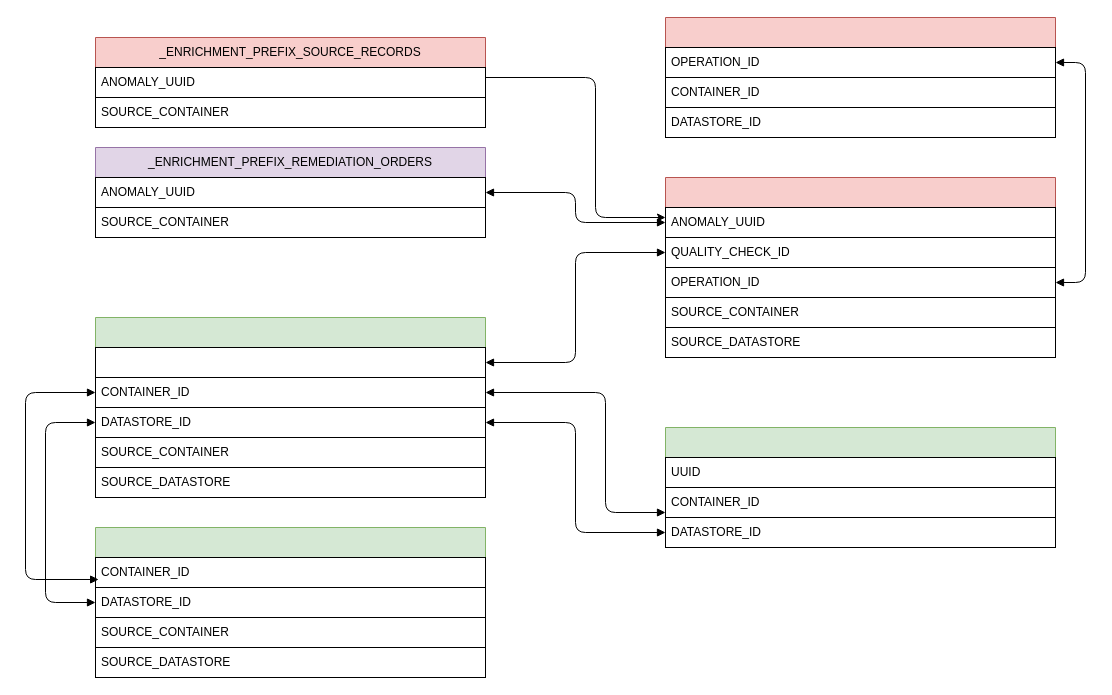
The diagram is 1112 pixels wide and 695 high, and some of its shapes have lost their labels. Each missing label, with the box of its shape:
_DATASTORE_NAME_EXPORT_ANOMALIES: (664, 426, 1056, 548)
_DATASTORE_NAME_EXPORT_CHECKS: (94, 316, 486, 498)
_DATASTORE_NAME_EXPORT_FIELD_PROFILES: (94, 526, 486, 678)
_ENRICHMENT_PREFIX_FAILED_CHECKS: (664, 176, 1056, 358)
_ENRICHMENT_PREFIX_SCAN_OPERATIONS: (664, 16, 1056, 138)
ID: (94, 346, 486, 378)
